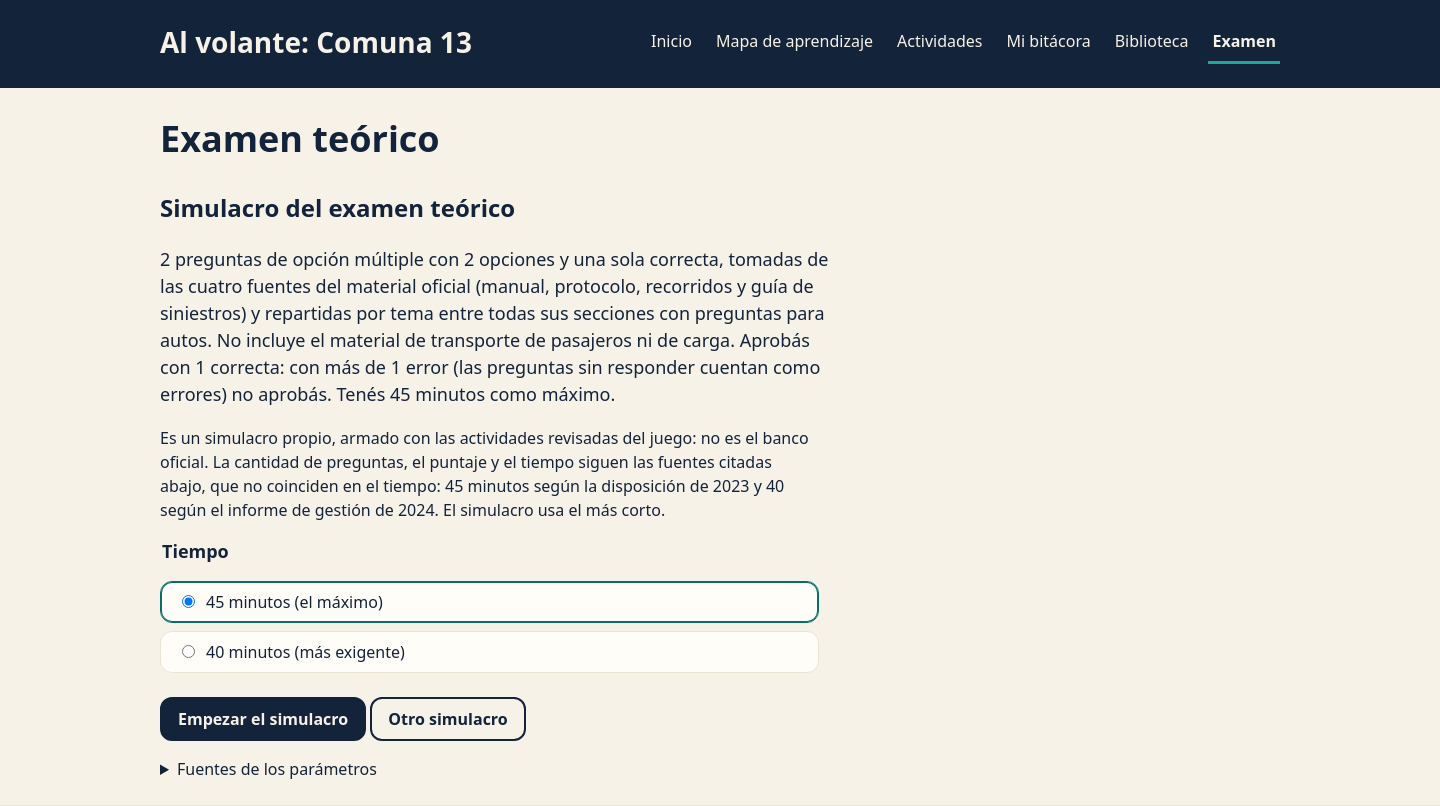
theory mock exam page › starts another exam with the focus on the page title
Click the button "Empezar el simulacro" at {"x": 263, "y": 719}, box [160,697,366,741]
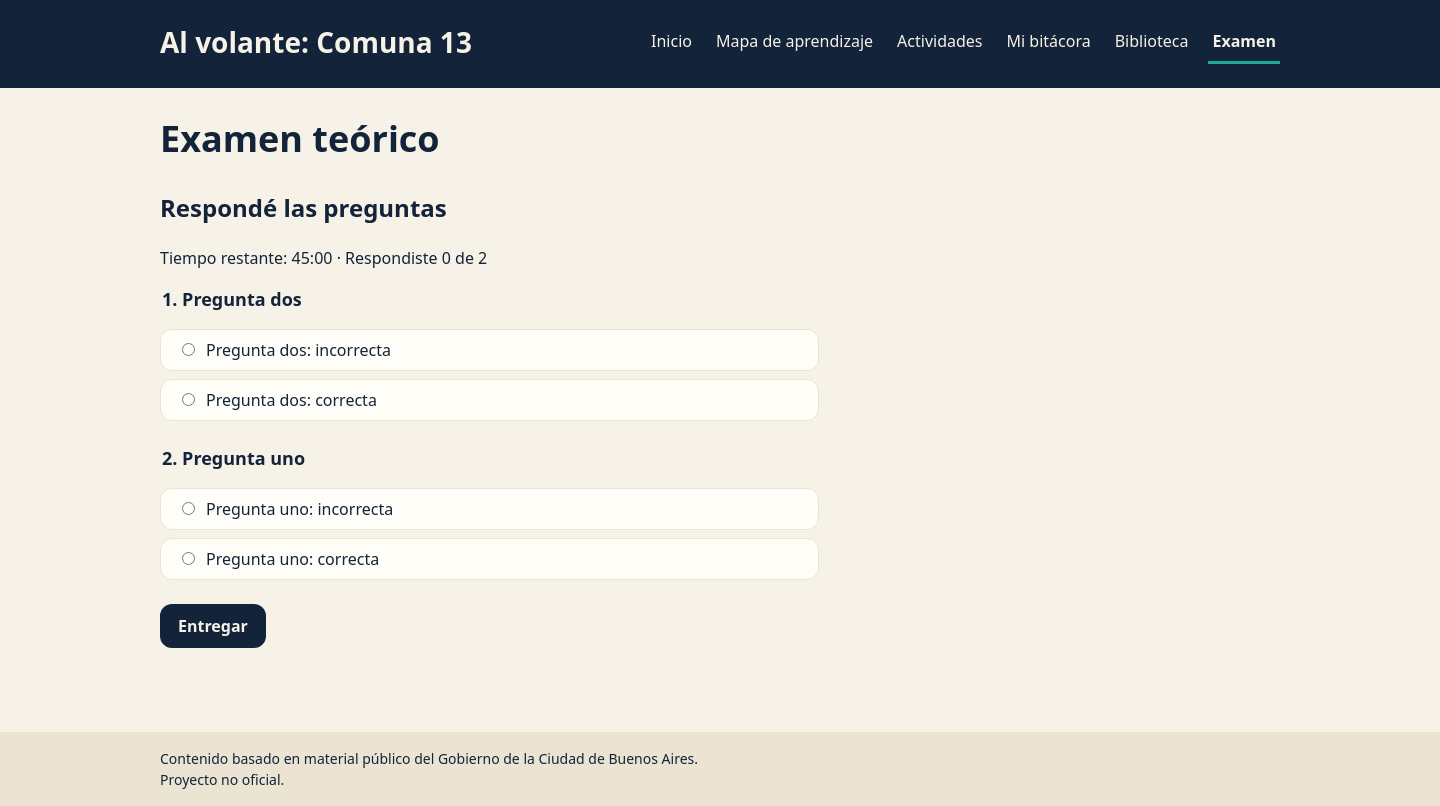
Click the button "Entregar" at {"x": 213, "y": 626}, box [160,604,266,648]
(page scrolled)
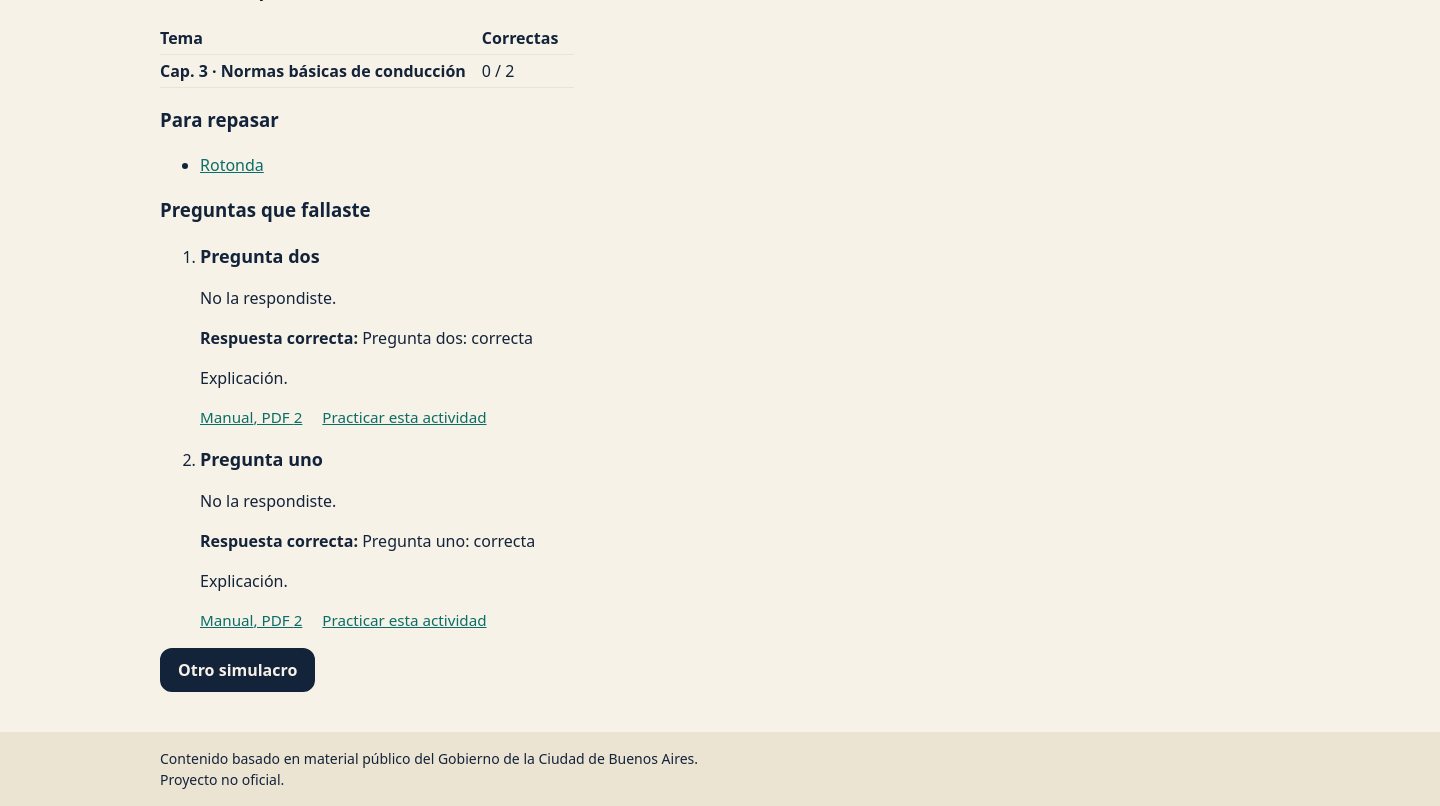
Click the button "Otro simulacro" at {"x": 238, "y": 670}, box [160,648,315,692]
(page scrolled)
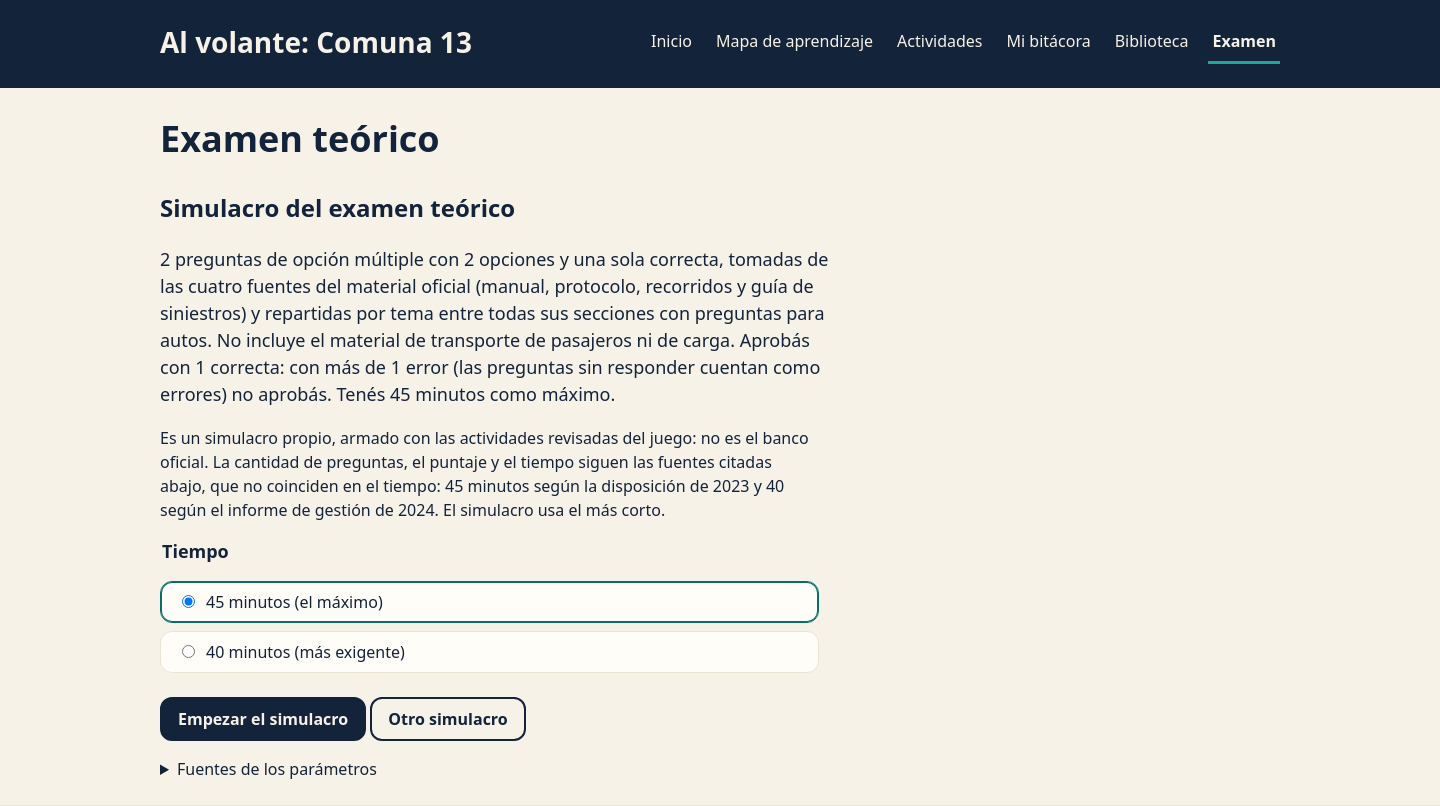
Expected: the button "Empezar el simulacro" is shown, [160,697,366,741]
